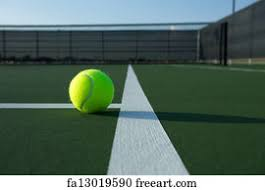tennis_ball: (68, 68, 114, 115)
